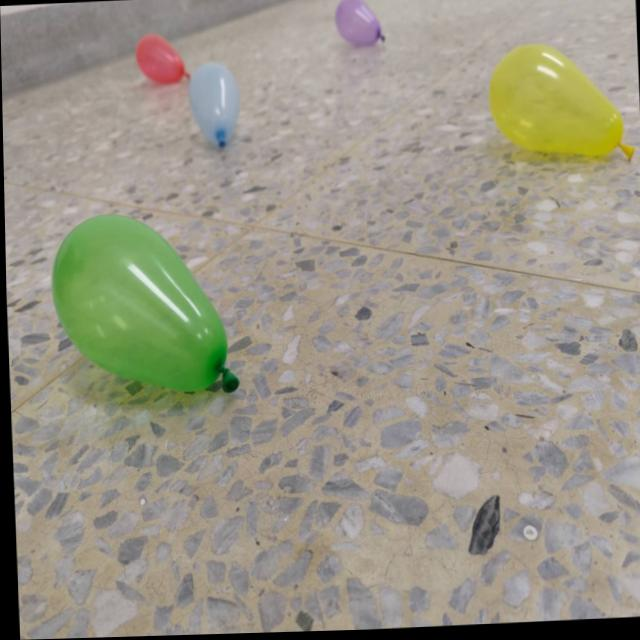other: (46, 209, 239, 403), (486, 44, 635, 168), (187, 59, 241, 151), (332, 0, 385, 48)
red: (133, 34, 191, 90)
